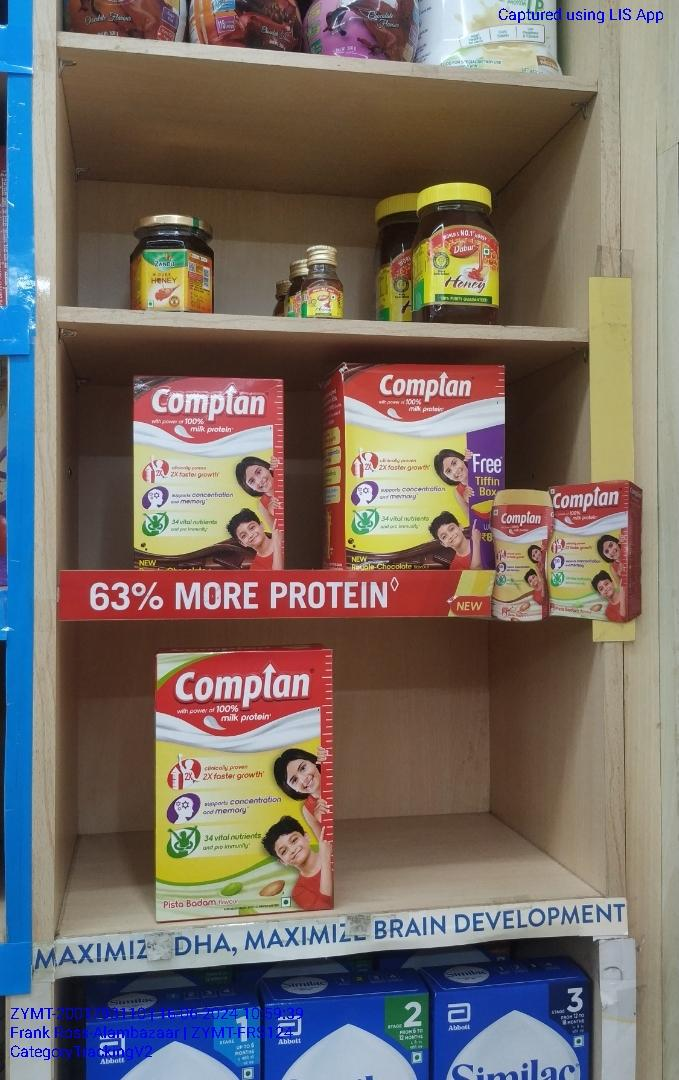COMPLAN_PISTA_BADAM_500_GMS_PACK: (156, 654, 332, 915)
